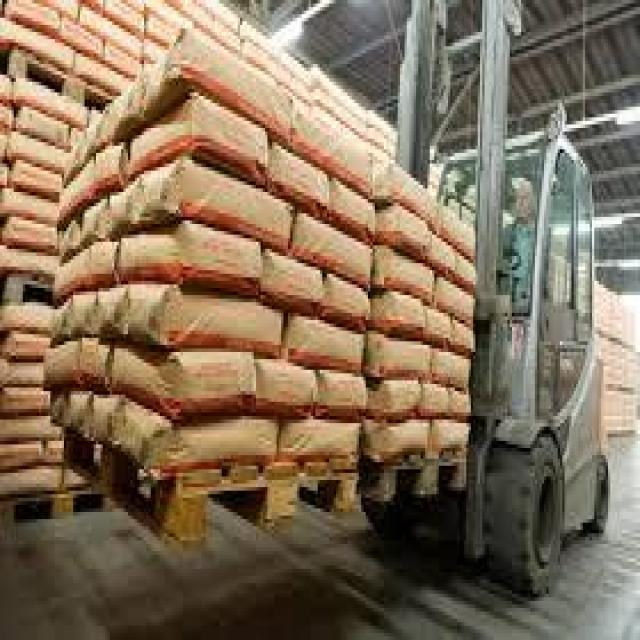gunny_bag: (140, 30, 295, 144), (109, 168, 293, 249), (120, 403, 281, 477), (128, 98, 267, 178), (128, 289, 283, 353), (111, 349, 254, 417), (116, 227, 260, 290), (293, 110, 374, 196), (292, 212, 378, 290), (270, 138, 332, 213), (286, 317, 369, 372), (376, 167, 438, 231), (14, 79, 89, 128), (262, 252, 321, 312), (257, 359, 315, 420), (1, 24, 75, 69), (98, 76, 143, 145), (376, 249, 435, 300), (284, 423, 360, 462), (85, 7, 142, 58), (331, 176, 377, 239), (368, 334, 432, 378), (376, 204, 430, 255), (58, 162, 96, 229), (321, 279, 372, 328), (315, 372, 369, 418), (76, 54, 134, 95), (363, 423, 427, 459), (373, 294, 427, 336), (73, 335, 113, 391), (368, 381, 421, 423), (9, 159, 65, 198), (88, 391, 126, 448), (1, 190, 59, 225), (17, 110, 69, 148), (437, 278, 475, 326), (438, 209, 475, 258), (44, 344, 79, 389), (432, 348, 469, 390), (0, 419, 62, 444), (55, 251, 87, 299), (8, 0, 58, 30), (10, 138, 55, 171), (61, 20, 102, 56), (428, 229, 457, 279), (1, 333, 46, 363), (7, 219, 53, 247), (0, 441, 42, 471), (3, 386, 49, 411), (65, 138, 91, 182), (83, 201, 108, 246), (97, 149, 124, 190), (432, 419, 466, 451), (420, 385, 451, 418), (426, 305, 452, 344), (59, 218, 80, 264), (455, 251, 476, 295), (450, 321, 471, 355), (452, 391, 473, 420)
